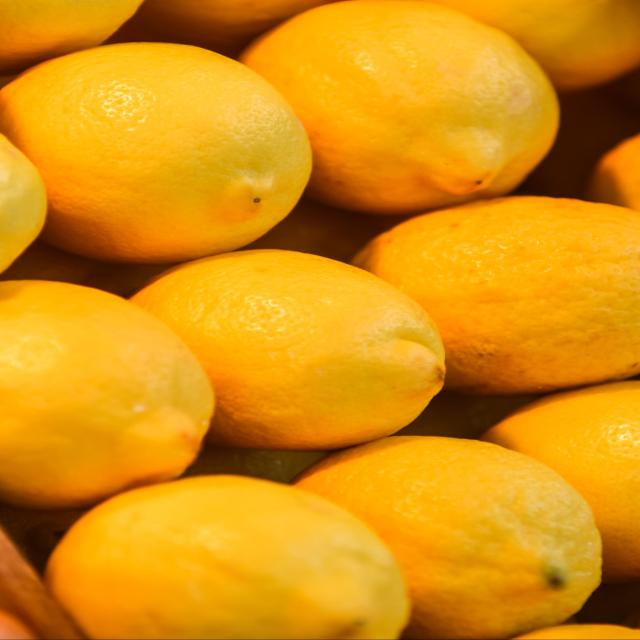lemon: (0, 33, 320, 266), (101, 243, 452, 455)
